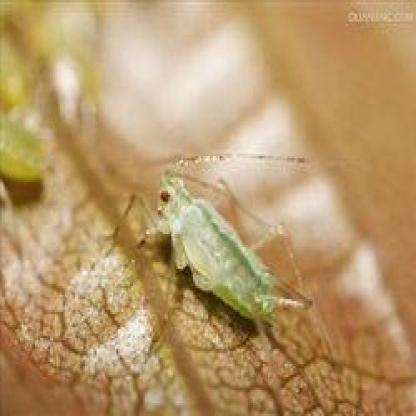aphid: (147, 132, 310, 344)
